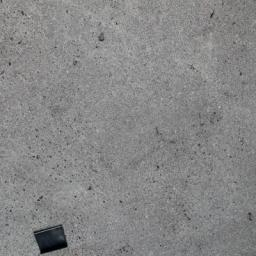FOD: (29, 223, 75, 256)
